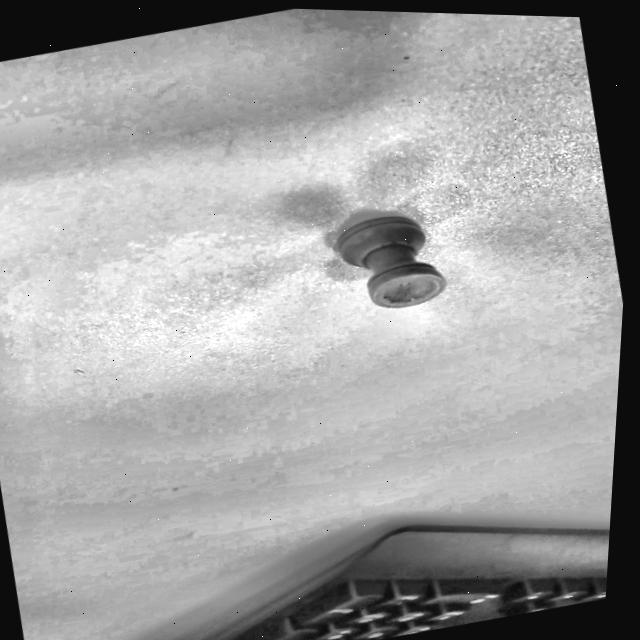white-rook: (336, 215, 444, 307)
